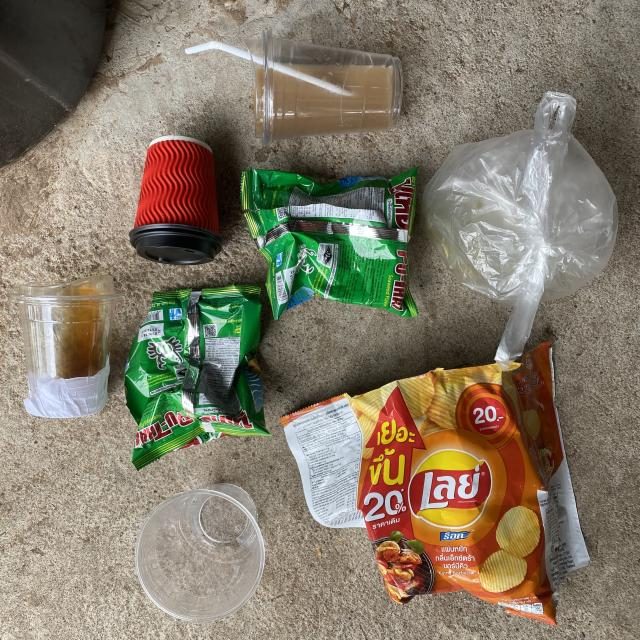Single-layer Plastic: (422, 92, 618, 366)
